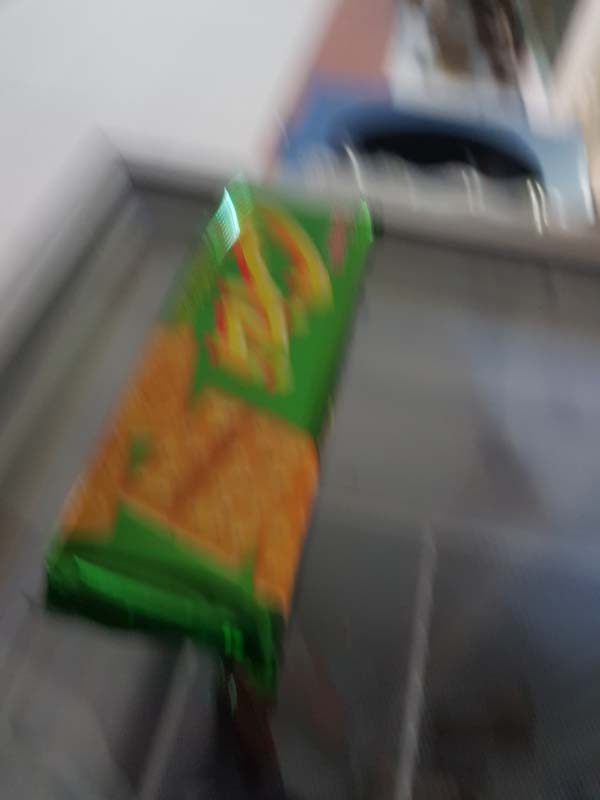cizi: (25, 166, 386, 706)
